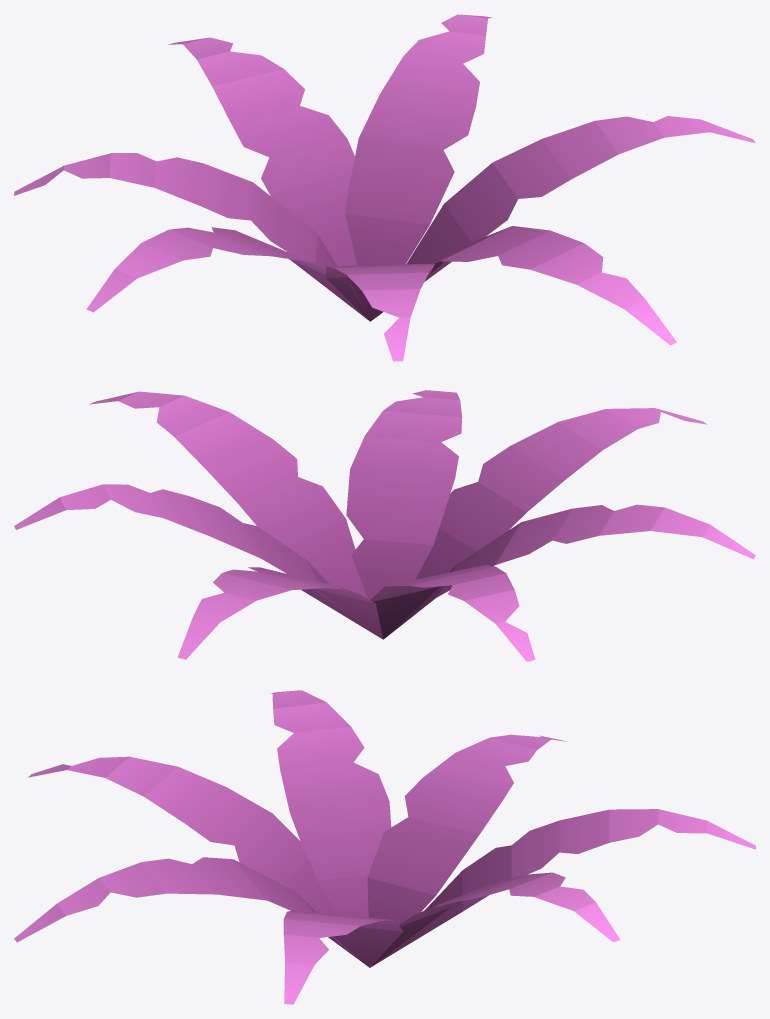
File: SpringFern.fbx
The picture shows the model from 3 angles, top to bottom: view 1: azimuth 30°, elevation 25°; view 2: azimuth 150°, elevation 25°; view 3: azimuth 270°, elevation 25°; orthographic projection. The views are drawn at different scales.
Parts seen in each view (by area): view 1: SpringFern; view 2: SpringFern; view 3: SpringFern.
Part boxes in pixels (x1,y1,x2,y2): SpringFern: (14,14,755,361); SpringFern: (14,390,755,661); SpringFern: (14,690,755,1004).
Size of the model in its own units: 433 by 106 by 434.
